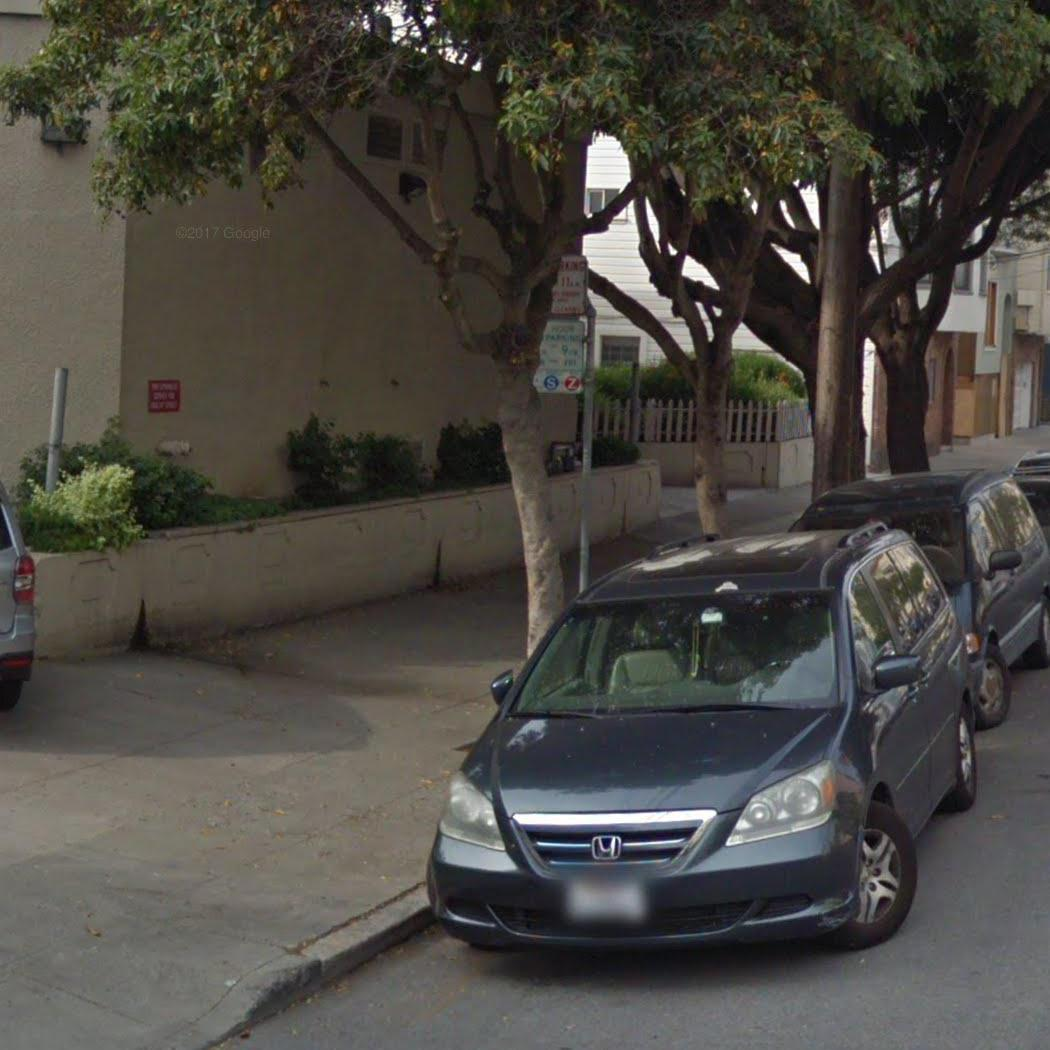2 Hour Parking: (533, 318, 586, 396)
No Parking: (549, 253, 588, 316)
